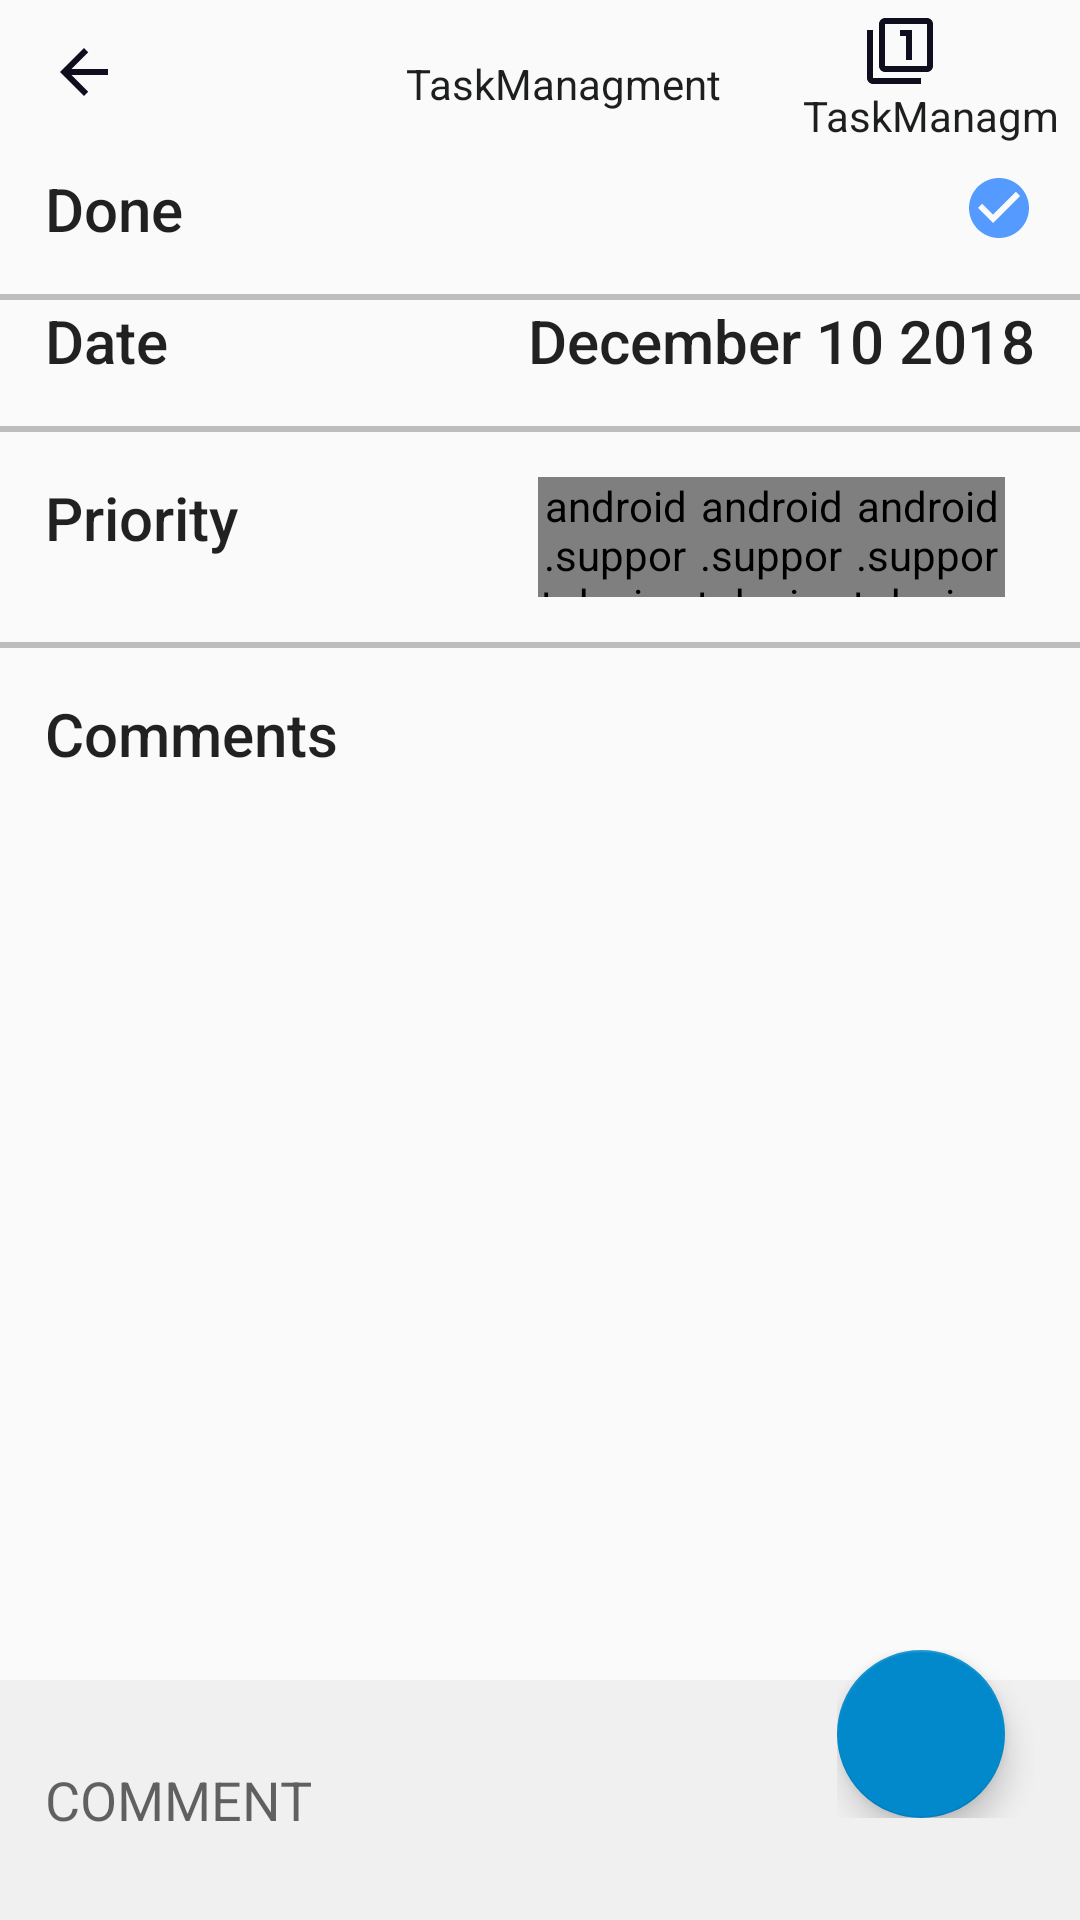

Locate icon controls on the screen. Image size 1080px x 1920px, boxes as bbox=(x1, y1, x2, y2).
arrow back: bbox=(60, 48, 108, 96)
check circle: bbox=(969, 178, 1029, 238)
